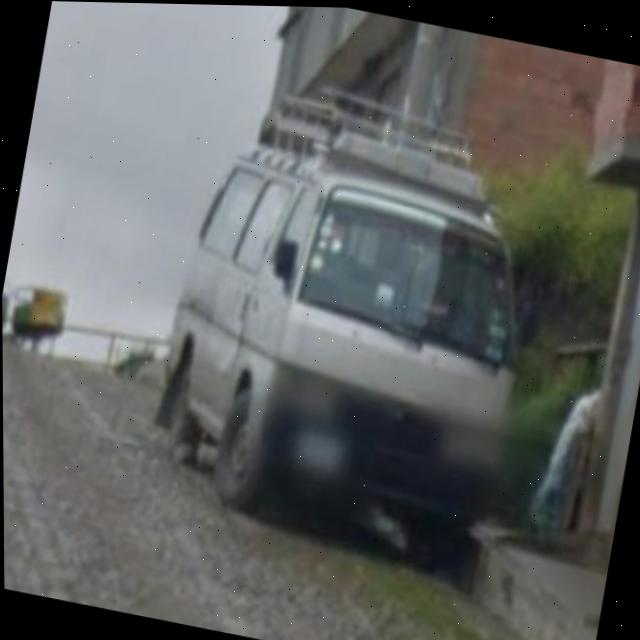vehicle: (128, 109, 558, 575)
